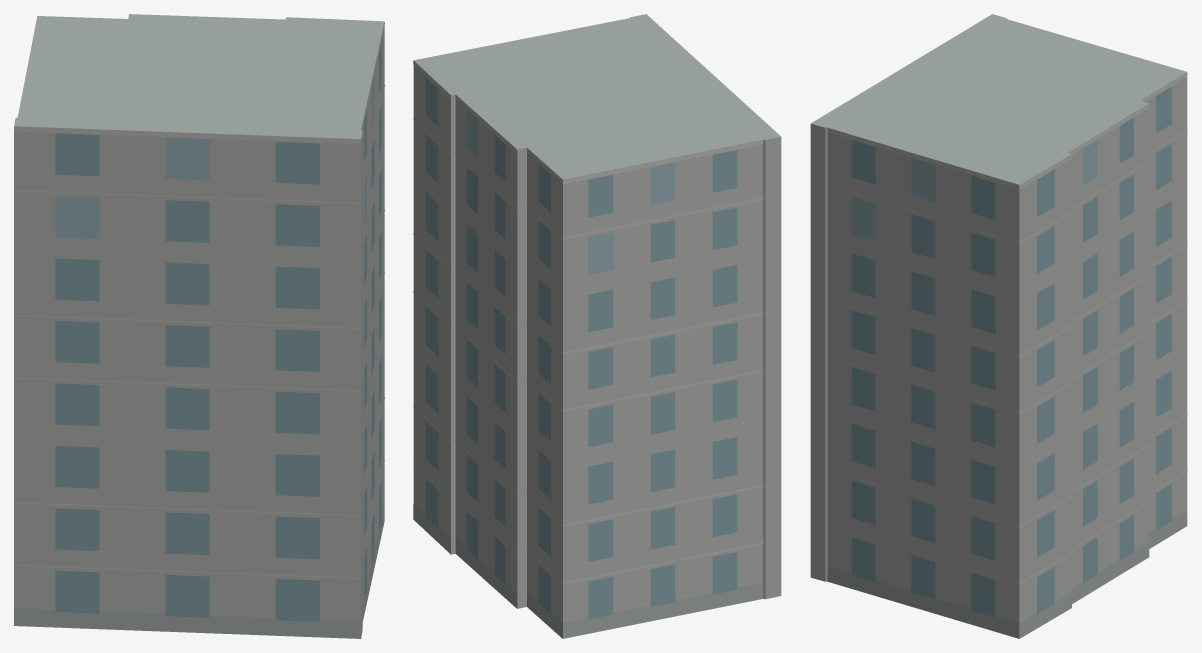
File: survey-upis-32740192.glb
3 views of the same model, side by side, from view 1: azimuth 30°, elevation 25°; view 2: azimuth 150°, elevation 25°; view 3: azimuth 270°, elevation 25° (orthographic). The views are drawn at different scales.
Parts seen in each view (by area): view 1: survey-upis-32740192.tmp; view 2: survey-upis-32740192.tmp; view 3: survey-upis-32740192.tmp.
Part boxes in pixels (x1=…): survey-upis-32740192.tmp: x1=14, y1=14, x2=384, y2=638; survey-upis-32740192.tmp: x1=413, y1=14, x2=781, y2=638; survey-upis-32740192.tmp: x1=810, y1=14, x2=1187, y2=638.
Bounding box in the file's own units: 18.9 × 23.4 × 17.62.
